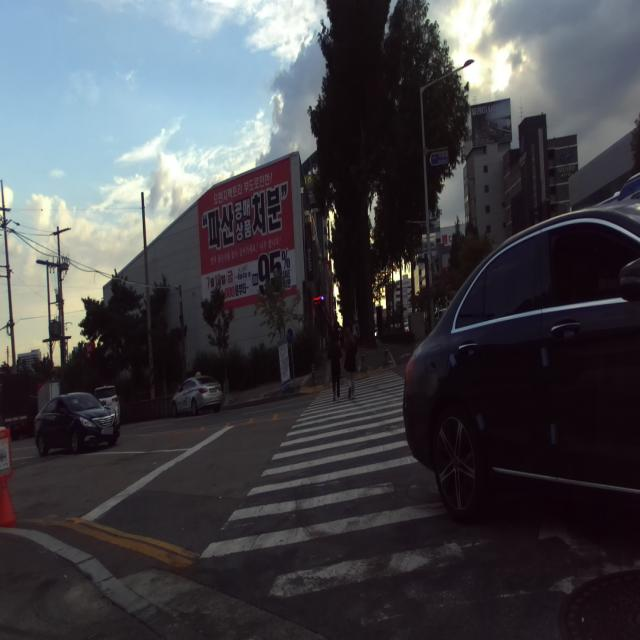횡단보도: (199, 369, 466, 597)
